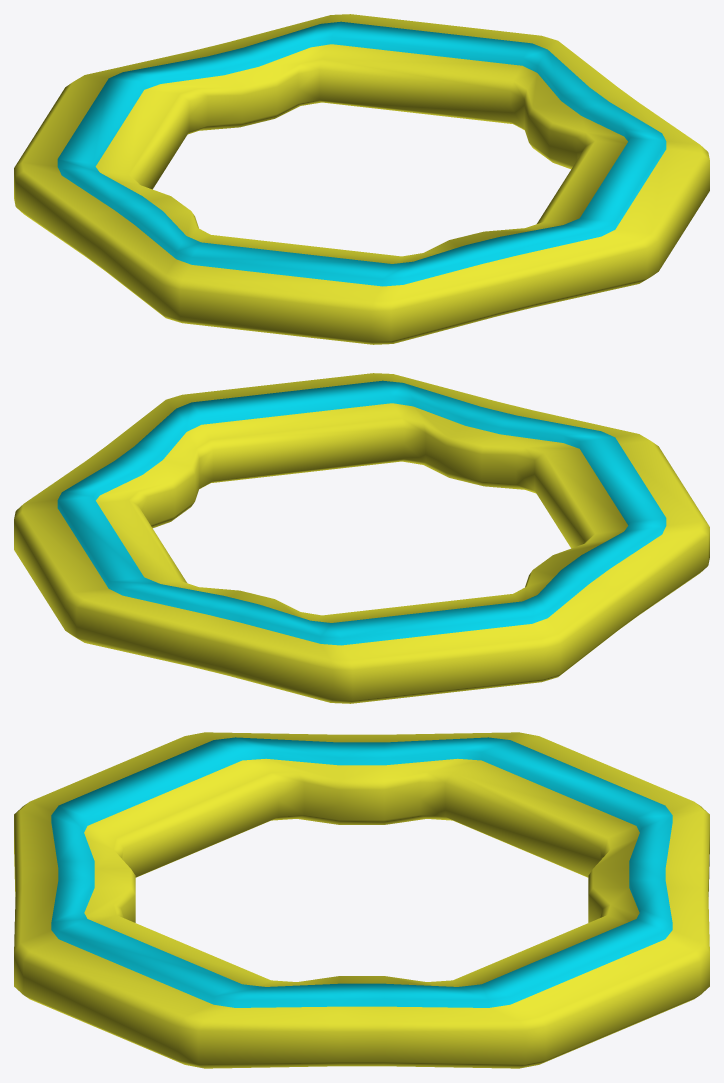
Rendered from Moneda.fbx.
3 views of the same model, one above another, from view 1: azimuth 30°, elevation 25°; view 2: azimuth 150°, elevation 25°; view 3: azimuth 270°, elevation 25° (orthographic). The views are drawn at different scales.
Parts seen in each view (by area): view 1: Circle; view 2: Circle; view 3: Circle.
Boxes of the visible parts, bbox=[...] form: Circle: bbox=[14, 14, 709, 344]; Circle: bbox=[14, 373, 709, 703]; Circle: bbox=[14, 732, 709, 1068].
Size of the model in its own units: 166 by 16.91 by 166.
